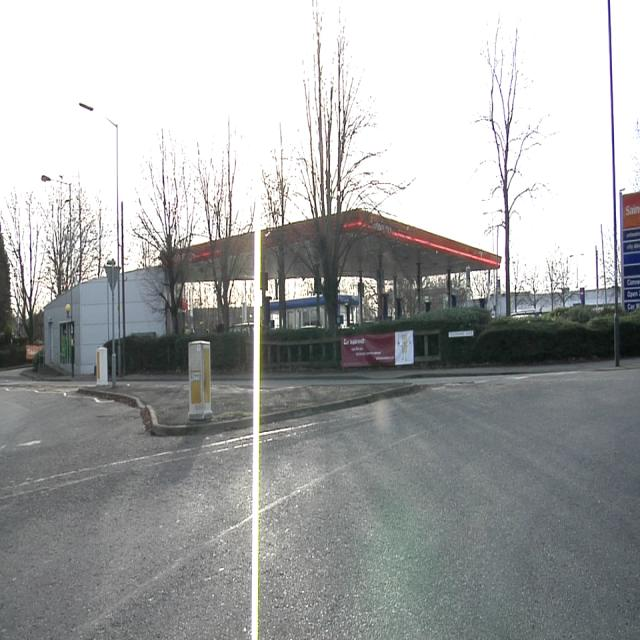Building: (44, 277, 112, 374), (126, 268, 165, 335), (127, 269, 164, 336)
Road: (260, 360, 640, 638), (1, 382, 263, 637), (0, 378, 251, 638)
Tree: (260, 21, 410, 327), (132, 126, 264, 329), (476, 17, 553, 230), (3, 175, 110, 323), (512, 215, 578, 306)
